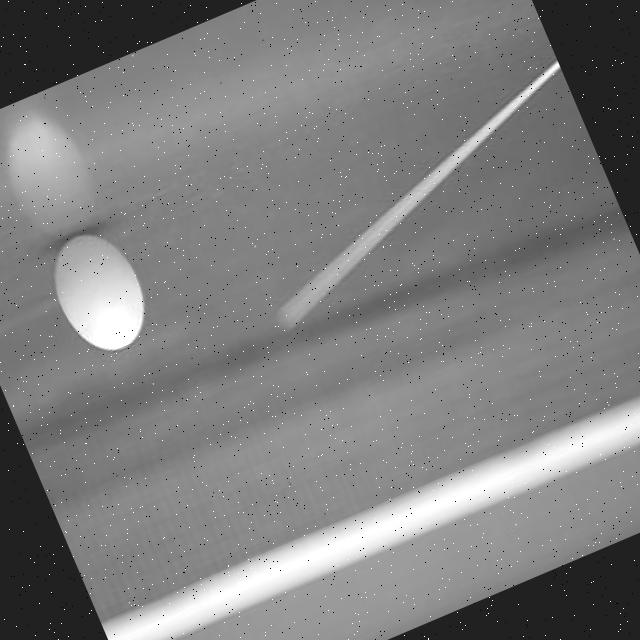ping-pong-ball: (34, 218, 164, 368)
